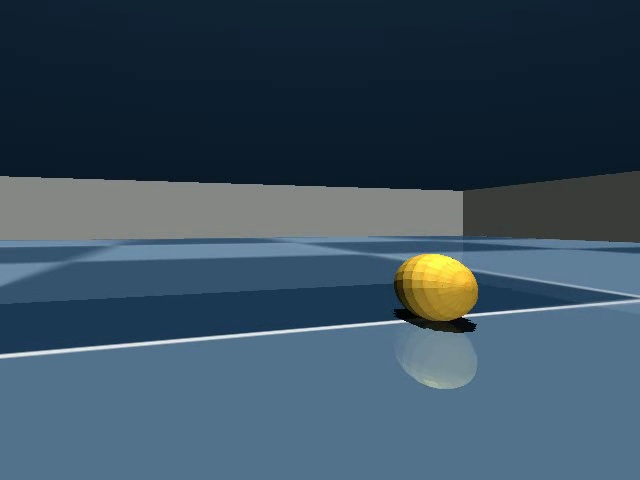lemon: (388, 249, 484, 334)
